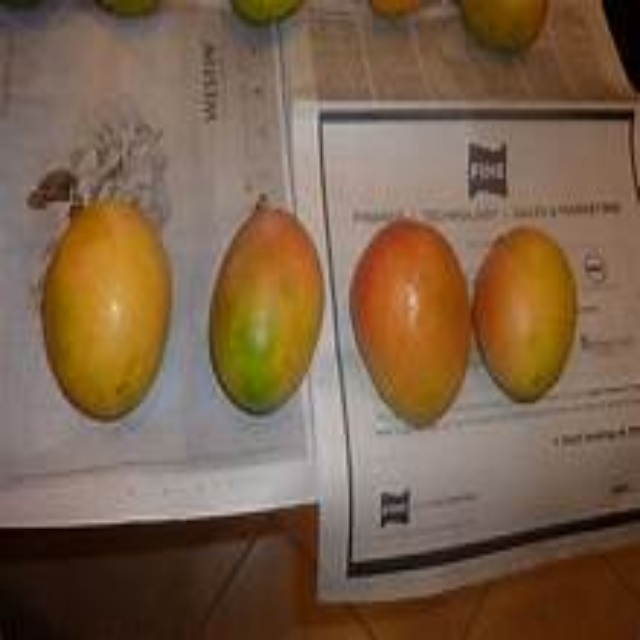mango: (44, 202, 170, 419), (350, 221, 464, 428), (212, 204, 311, 409), (475, 227, 570, 402)
